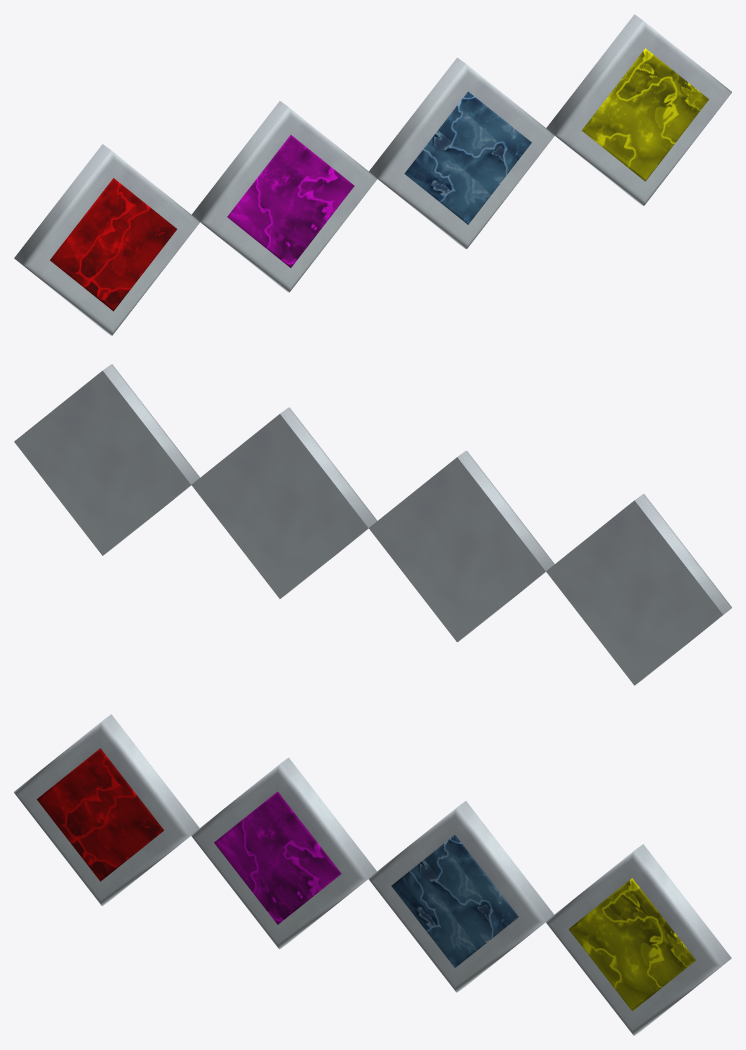
The model's file is DecorWall01_1.FBX.
The picture shows the model from 3 angles, top to bottom: view 1: azimuth 30°, elevation 25°; view 2: azimuth 150°, elevation 25°; view 3: azimuth 330°, elevation 25°; orthographic projection.
Visible parts, largest first — view 1: DecorWall01_1; view 2: DecorWall01_1; view 3: DecorWall01_1.
Boxes of the visible parts, <box> form: DecorWall01_1: <box>14,14,731,335</box>; DecorWall01_1: <box>14,364,731,685</box>; DecorWall01_1: <box>14,714,731,1035</box>.
Size of the model in its own units: 2121 by 530 by 59.69.
